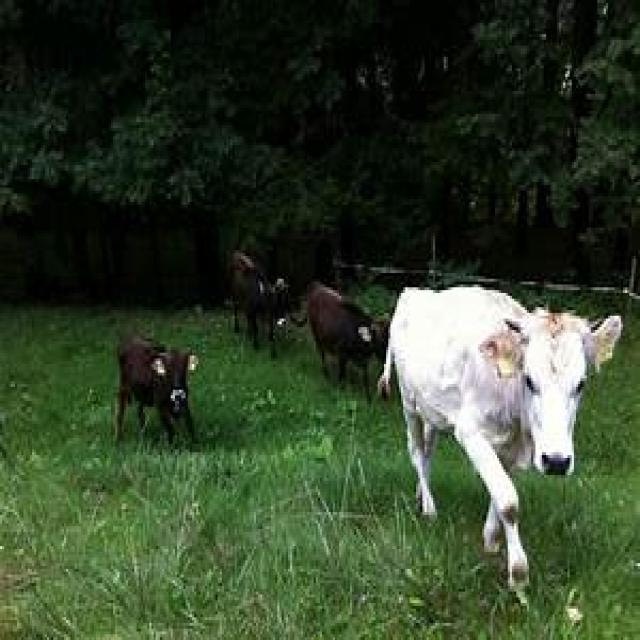cow: (378, 287, 625, 589), (117, 341, 196, 438)
